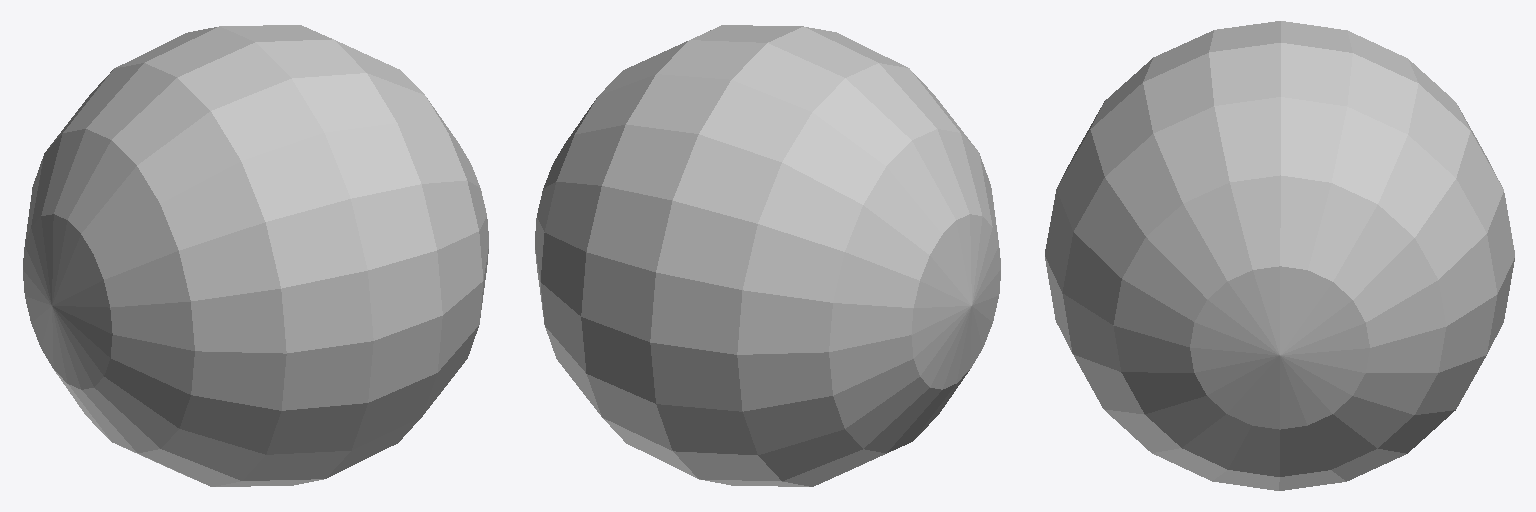
File: P_Ball_Wood_MF.obj
3 renders of one model, left to right at view 1: azimuth 30°, elevation 25°; view 2: azimuth 150°, elevation 25°; view 3: azimuth 270°, elevation 25°, orthographic.
Parts seen in each view (by area): view 1: P_Ball_Wood_MF; view 2: P_Ball_Wood_MF; view 3: P_Ball_Wood_MF.
Part boxes in pixels (x1,y1,x2,y2): P_Ball_Wood_MF: (23,25,488,486); P_Ball_Wood_MF: (535,25,1000,486); P_Ball_Wood_MF: (1045,21,1514,490).
Bounding box in the file's own units: 4 × 4 × 4.